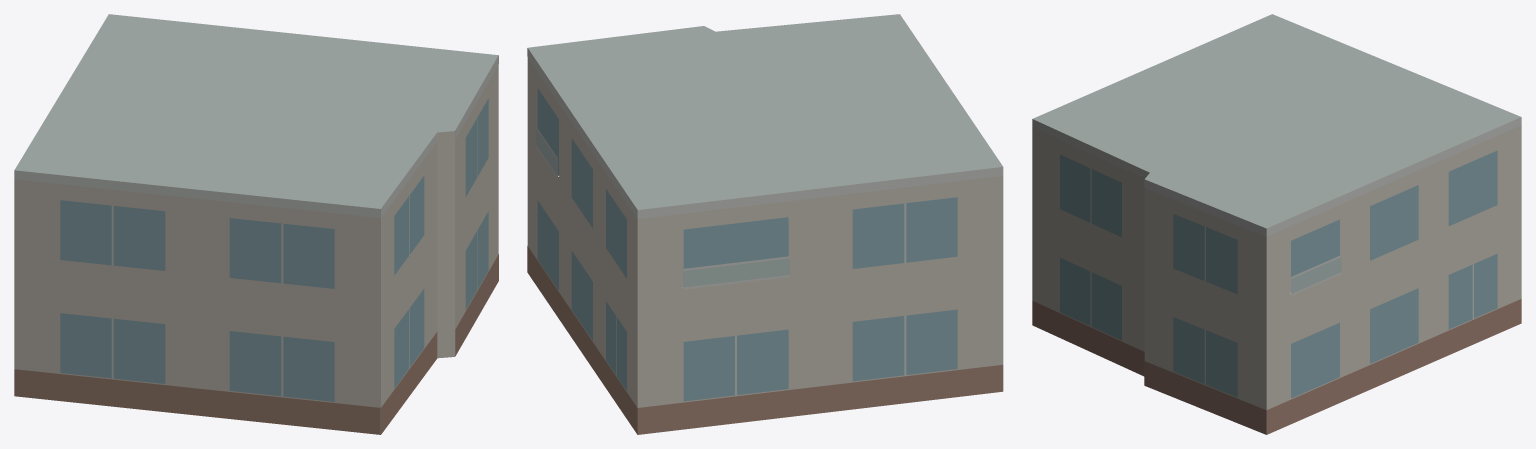
File: survey-upis-32850793.glb
3 renders of one model, left to right at view 1: azimuth 30°, elevation 25°; view 2: azimuth 150°, elevation 25°; view 3: azimuth 270°, elevation 25°, orthographic. The views are drawn at different scales.
Visible parts, largest first — view 1: survey-upis-32850793.tmp; view 2: survey-upis-32850793.tmp; view 3: survey-upis-32850793.tmp.
Part boxes in pixels (x1=…): survey-upis-32850793.tmp: x1=14, y1=14, x2=498, y2=434; survey-upis-32850793.tmp: x1=527, y1=14, x2=1003, y2=434; survey-upis-32850793.tmp: x1=1032, y1=14, x2=1521, y2=434.
Bounding box in the file's own units: 13.61 × 6.1 × 13.12.
